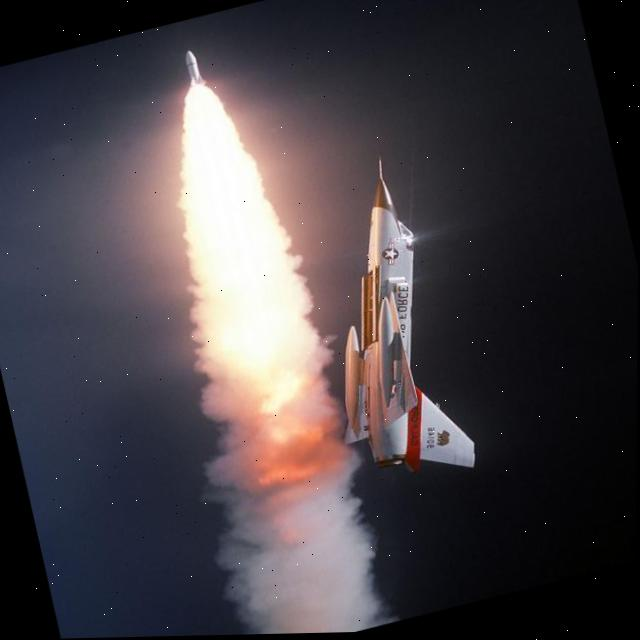missile: (356, 296, 418, 414), (327, 325, 378, 431), (180, 44, 205, 85)
